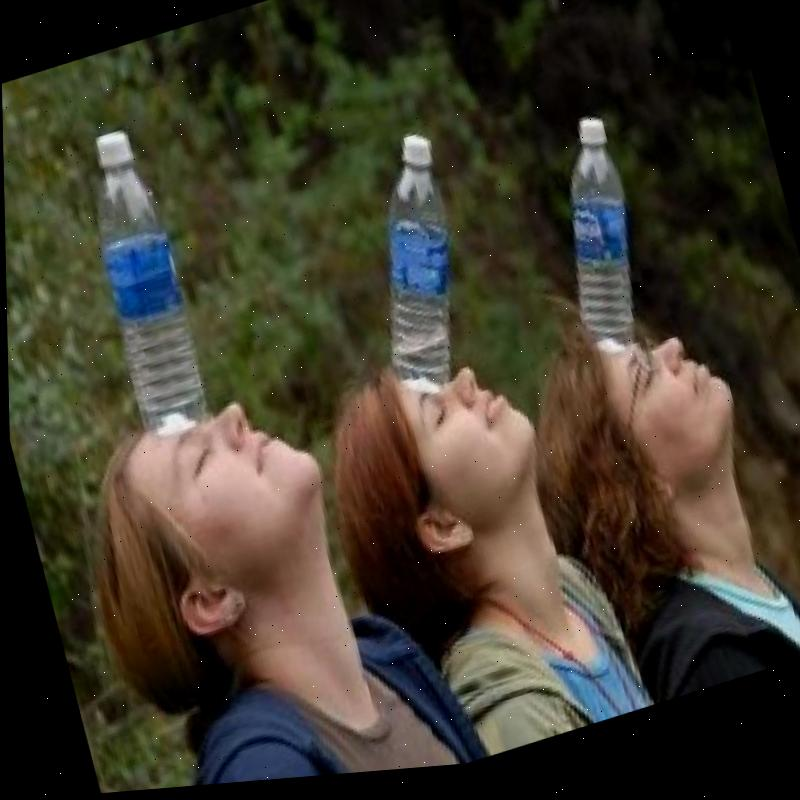botella: (66, 119, 213, 449), (334, 128, 490, 414), (528, 115, 664, 373)
